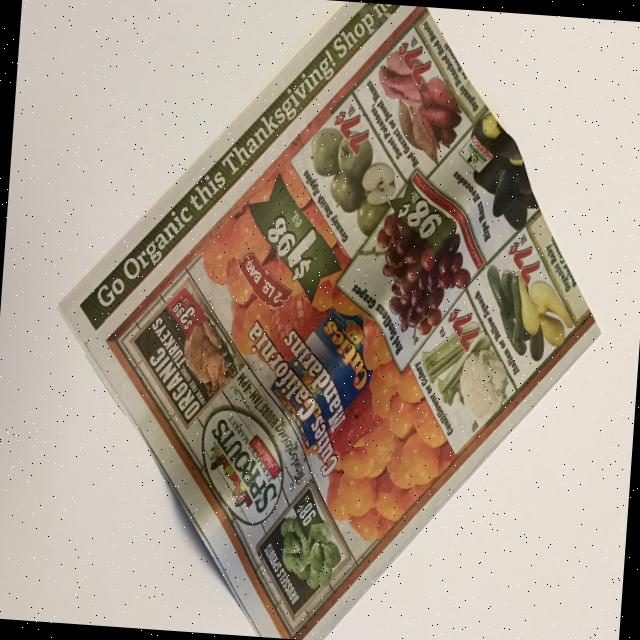paper: (33, 0, 624, 640)
